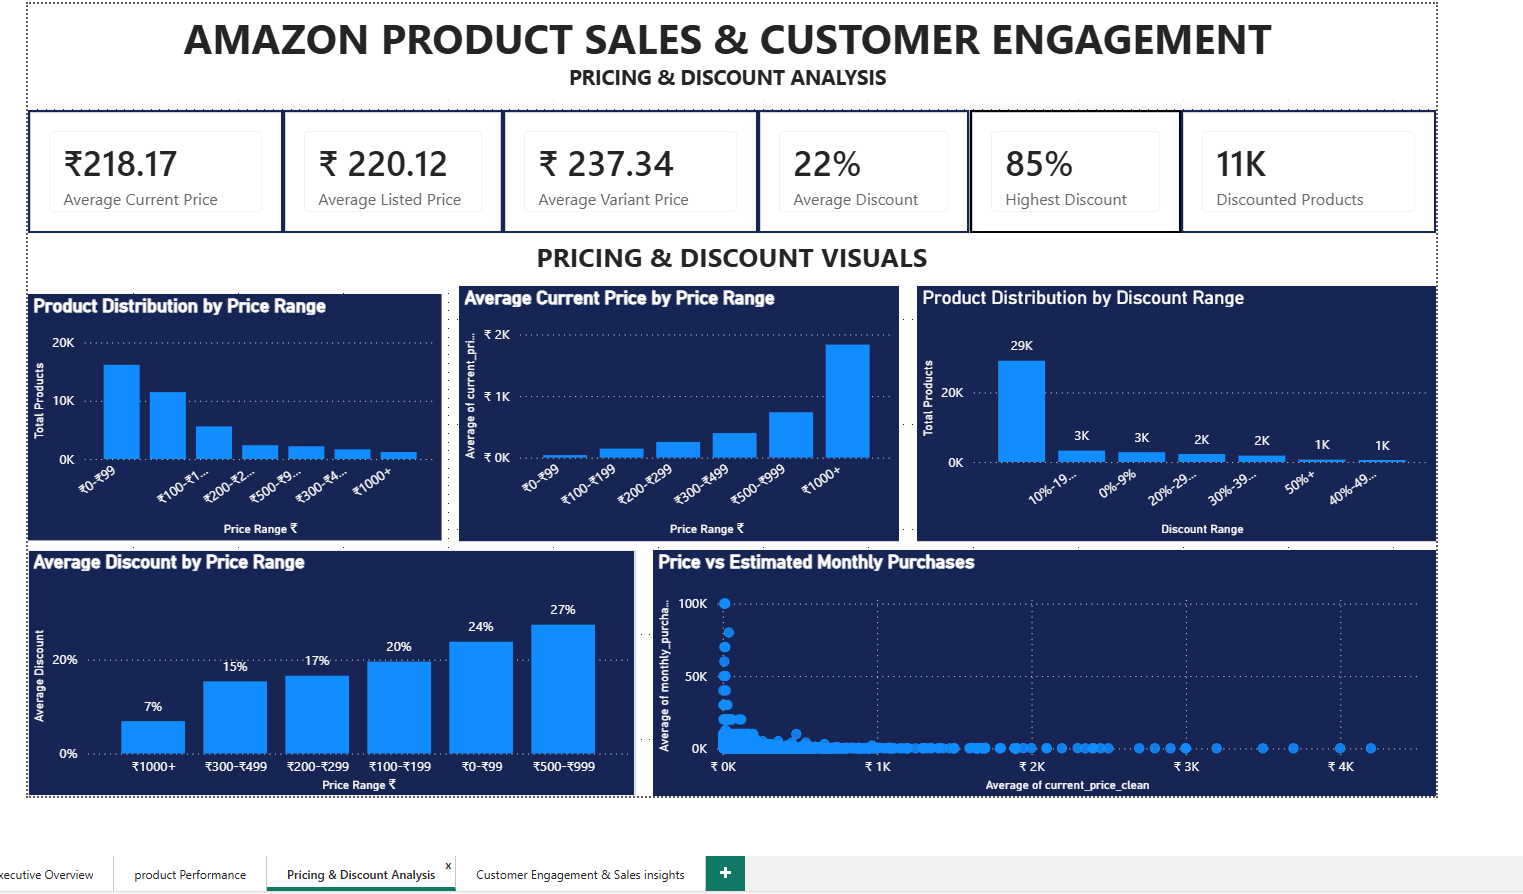

The dashboard page shown, as its layout file describes it:
{"tool":"powerbi","page":{"name":"Pricing & Discount Analysis","canvas":[1280,720],"ordinal":2},"visuals":[{"type":"textbox","box":[0,0,1272,88],"z":0},{"type":"cardVisual","fields":{"Data":["Final clean sheet.Average Current Price"]},"box":[0,96,232,112],"z":1000},{"type":"cardVisual","fields":{"Data":["Final clean sheet.Average Listed Price"]},"box":[232,96,200,112],"z":2000},{"type":"cardVisual","fields":{"Data":["Final clean sheet.Average Variant Price"]},"box":[432,96,232,112],"z":3000},{"type":"cardVisual","fields":{"Data":["Final clean sheet.Average Discount"]},"box":[664,96,192,112],"z":4000},{"type":"cardVisual","fields":{"Data":["Final clean sheet.Highest Discount"]},"box":[856,96,192,112],"z":5000},{"type":"cardVisual","fields":{"Data":["Final clean sheet.Discounted Products"]},"box":[1048,96,232,112],"z":6000},{"type":"clusteredColumnChart","title":"Product Distribution by Price Range","fields":{"Y":["Final clean sheet.Total Products"],"Category":["Final clean sheet.Price Range ₹"]},"box":[0,264,376,224],"z":7000},{"type":"textbox","box":[0,208,1280,48],"z":8000},{"type":"clusteredColumnChart","title":"Average Current Price by Price Range","fields":{"Y":["Avg(Final clean sheet.current_price_clean)"],"Category":["Final clean sheet.Price Range ₹"]},"box":[392,256,400,232],"z":9000},{"type":"clusteredColumnChart","title":"Product Distribution by Discount Range","fields":{"Category":["Final clean sheet.Discount Range"],"Y":["Final clean sheet.Total Products"]},"box":[808,256,472,232],"z":10000},{"type":"clusteredColumnChart","title":"Average Discount by Price Range","fields":{"Category":["Final clean sheet.Price Range ₹"],"Y":["Final clean sheet.Average Discount"]},"box":[0,496,552,224],"z":11000},{"type":"scatterChart","title":"Price vs Estimated Monthly Purchases","fields":{"X":["Avg(Final clean sheet.current_price_clean)"],"Y":["Avg(Final clean sheet.monthly_purchase_estimate)"],"Category":["Final clean sheet.product_url"]},"box":[568,496,712,224],"z":12000}]}

Visuals, with their boxes on the page's 1280x720 design canvas (x1, y1, x2, y2). These are canvas units, not pixel positions in the 1523x894 screenshot, which may show the page scaled, cropped or inside an application window:
textbox: x1=0, y1=0, x2=1272, y2=88
cardVisual - Final clean sheet.Average Current Price: x1=0, y1=96, x2=232, y2=208
cardVisual - Final clean sheet.Average Listed Price: x1=232, y1=96, x2=432, y2=208
cardVisual - Final clean sheet.Average Variant Price: x1=432, y1=96, x2=664, y2=208
cardVisual - Final clean sheet.Average Discount: x1=664, y1=96, x2=856, y2=208
cardVisual - Final clean sheet.Highest Discount: x1=856, y1=96, x2=1048, y2=208
cardVisual - Final clean sheet.Discounted Products: x1=1048, y1=96, x2=1280, y2=208
"Product Distribution by Price Range" clusteredColumnChart: x1=0, y1=264, x2=376, y2=488
textbox: x1=0, y1=208, x2=1280, y2=256
"Average Current Price by Price Range" clusteredColumnChart: x1=392, y1=256, x2=792, y2=488
"Product Distribution by Discount Range" clusteredColumnChart: x1=808, y1=256, x2=1280, y2=488
"Average Discount by Price Range" clusteredColumnChart: x1=0, y1=496, x2=552, y2=720
"Price vs Estimated Monthly Purchases" scatterChart: x1=568, y1=496, x2=1280, y2=720
